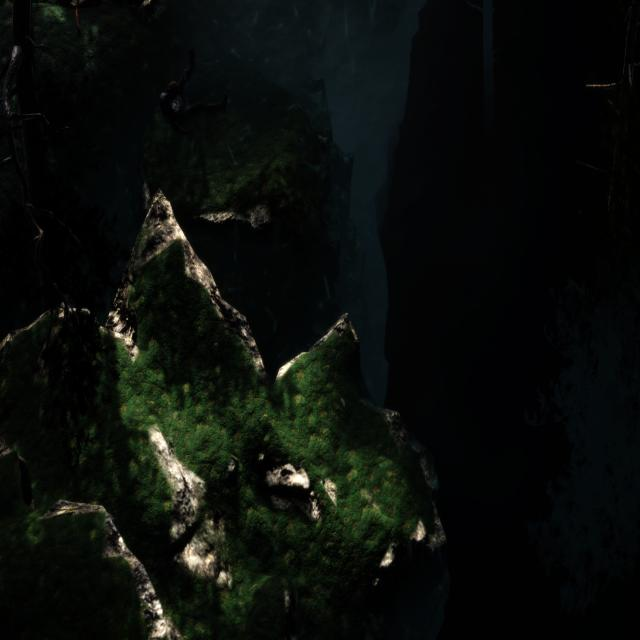Human: (156, 46, 228, 139)
